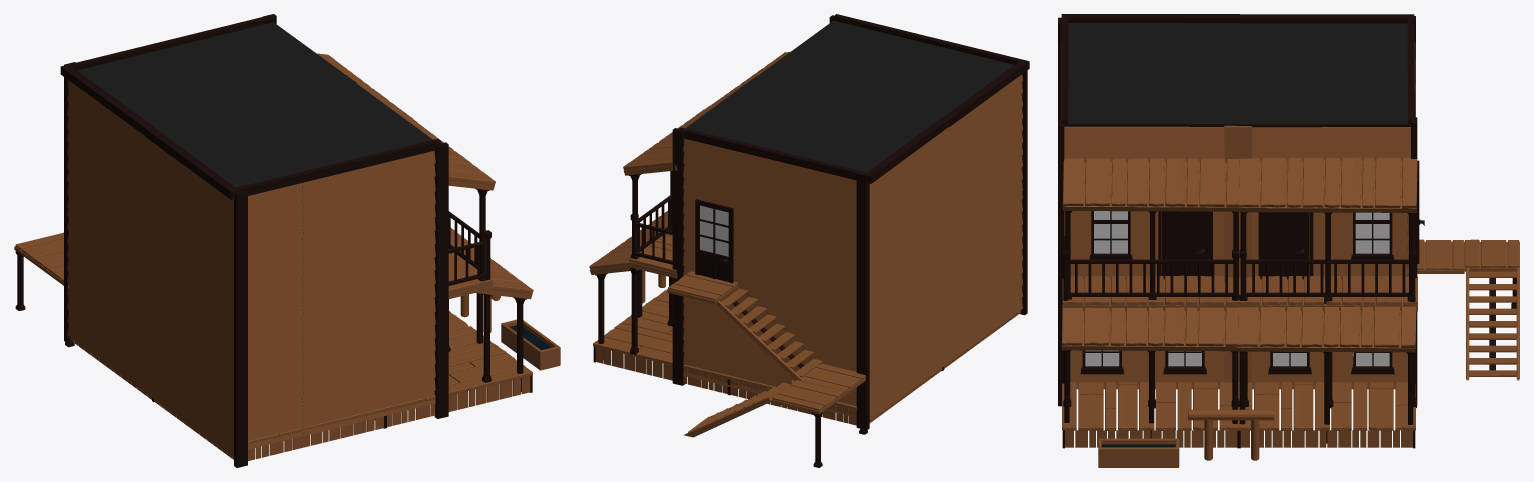
Rendered from casa_grande.obj.
3 renders of one model, left to right at view 1: azimuth 30°, elevation 25°; view 2: azimuth 150°, elevation 25°; view 3: azimuth 270°, elevation 25°, orthographic. The views are drawn at different scales.
Parts seen in each view (by area): view 1: Balcony_B.018; view 2: Balcony_B.018; view 3: Balcony_B.018.
Boxes of the visible parts, x1,y1,x2,y2 form: Balcony_B.018: (14, 14, 560, 467); Balcony_B.018: (589, 14, 1029, 467); Balcony_B.018: (1058, 14, 1519, 467).
Size of the model in its own units: 7.65 by 5.92 by 8.55.
